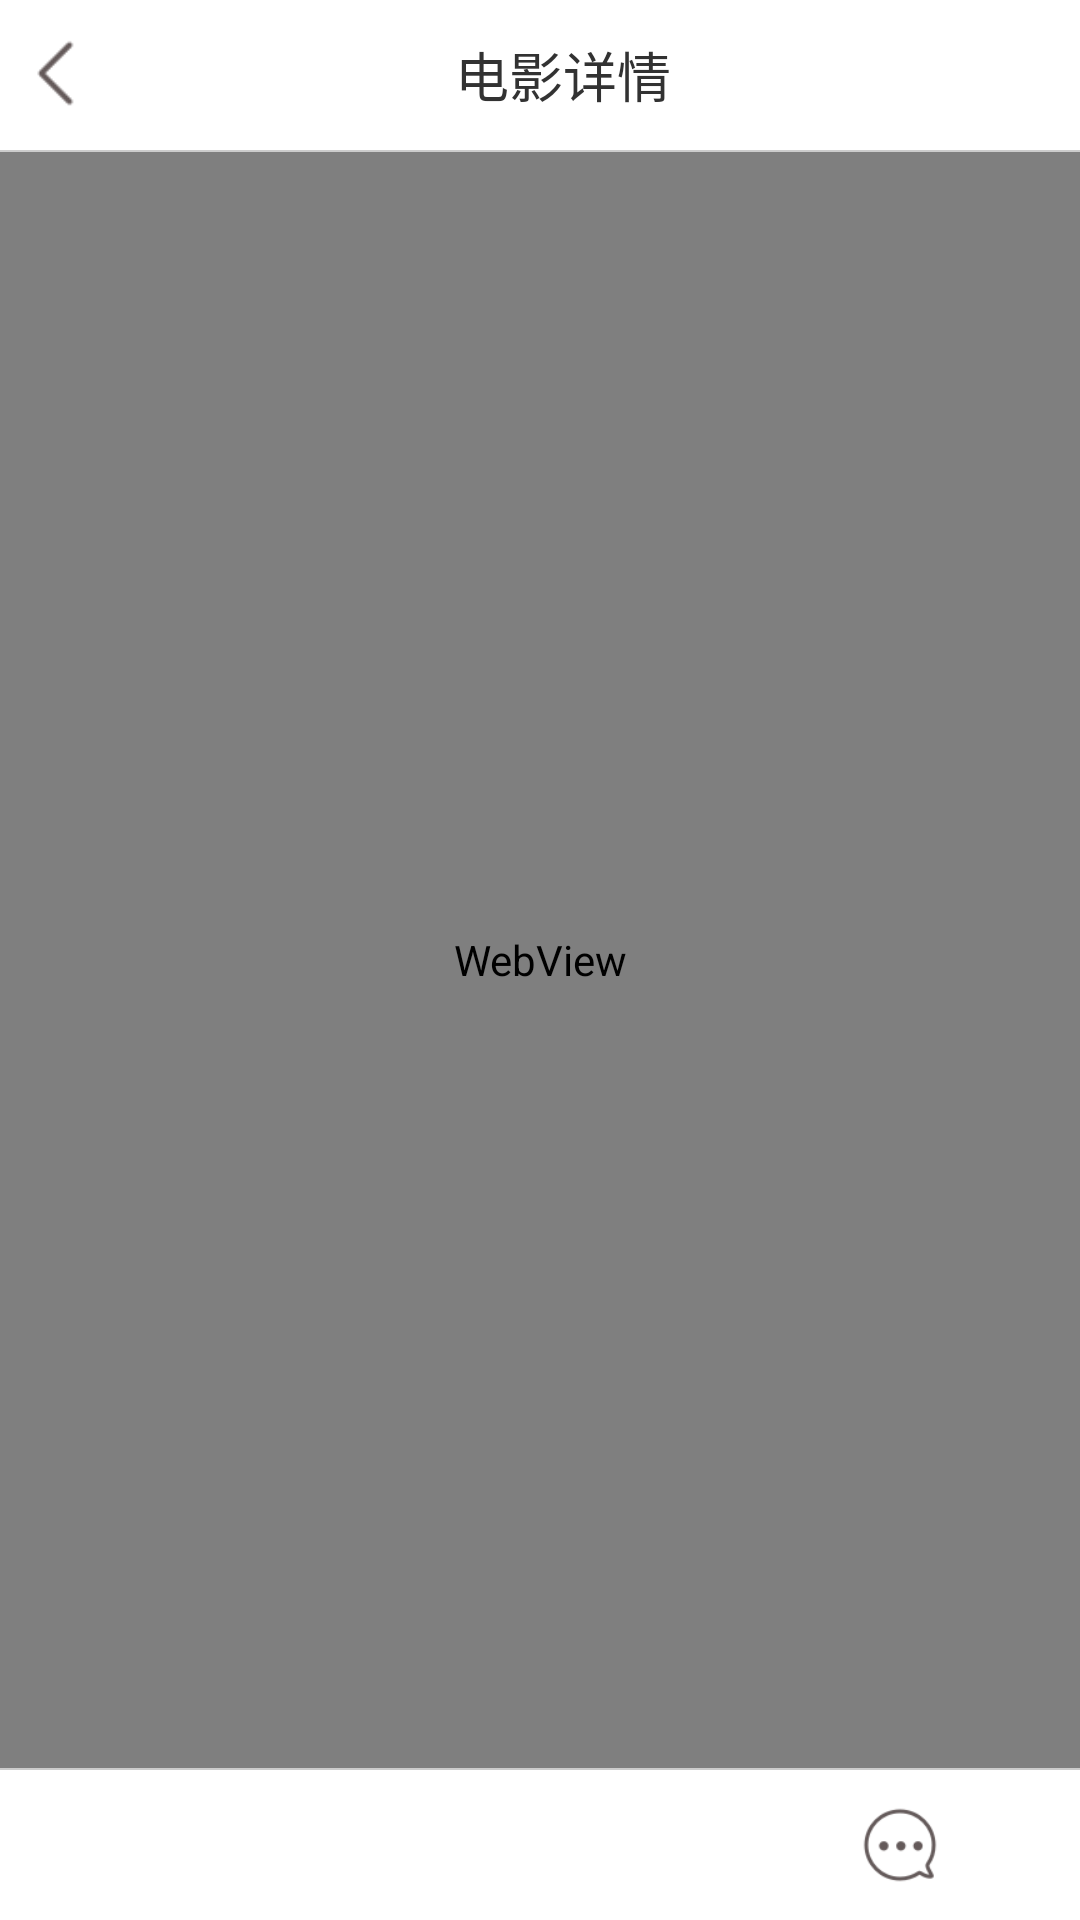

Icon bounding boxes for this 1080px×1920px phone screenshot, format [x1,y1,x2,y2]:
back: [37,41,73,105]
item comment: [864,1809,936,1881]
